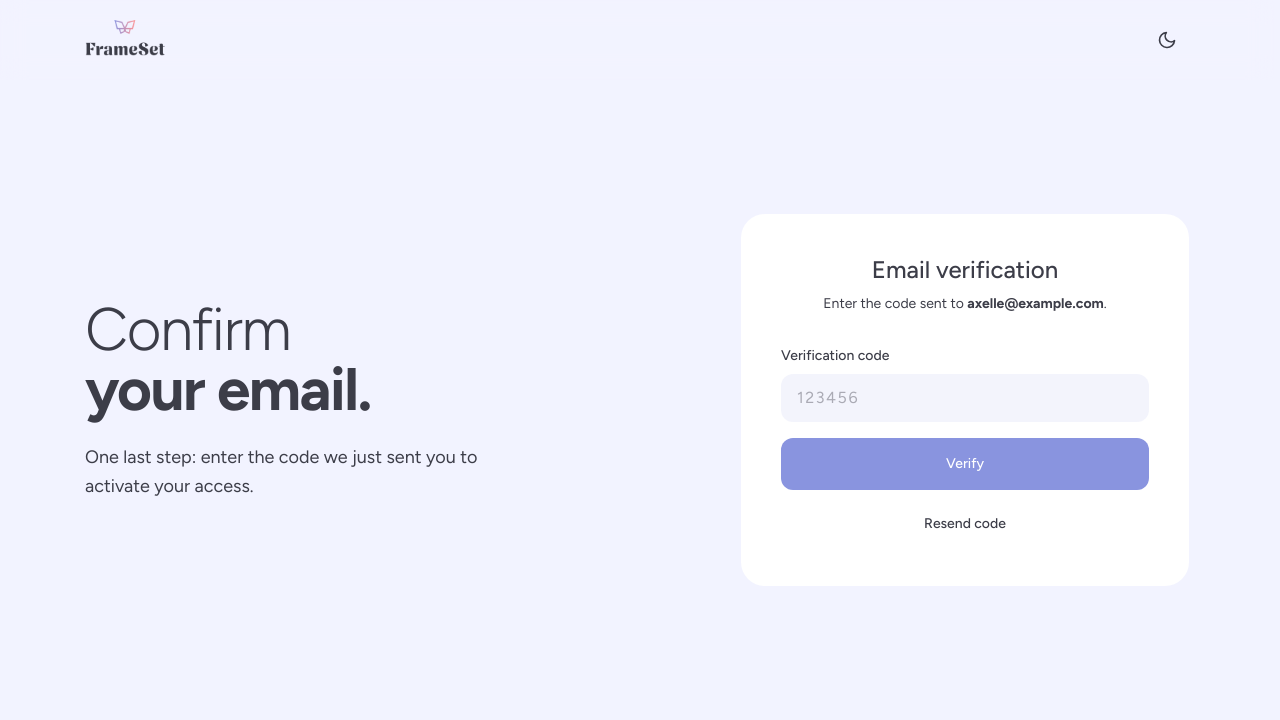
Test case: Verify › shows an error when the code is incorrect
Step 1. Type "000000" into the field with placeholder "123456" → [965, 398], box [781,374,1149,422]
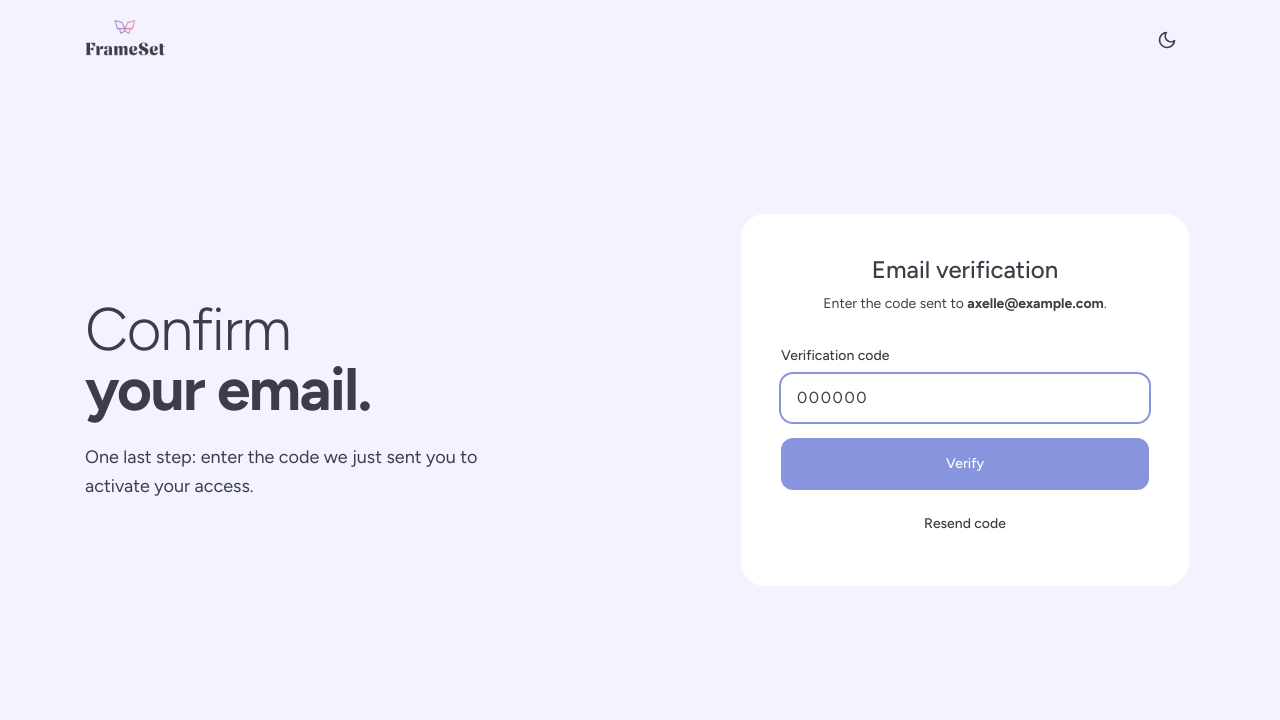
Step 2. Click the button "Verify" → [965, 464], box [781,438,1149,490]
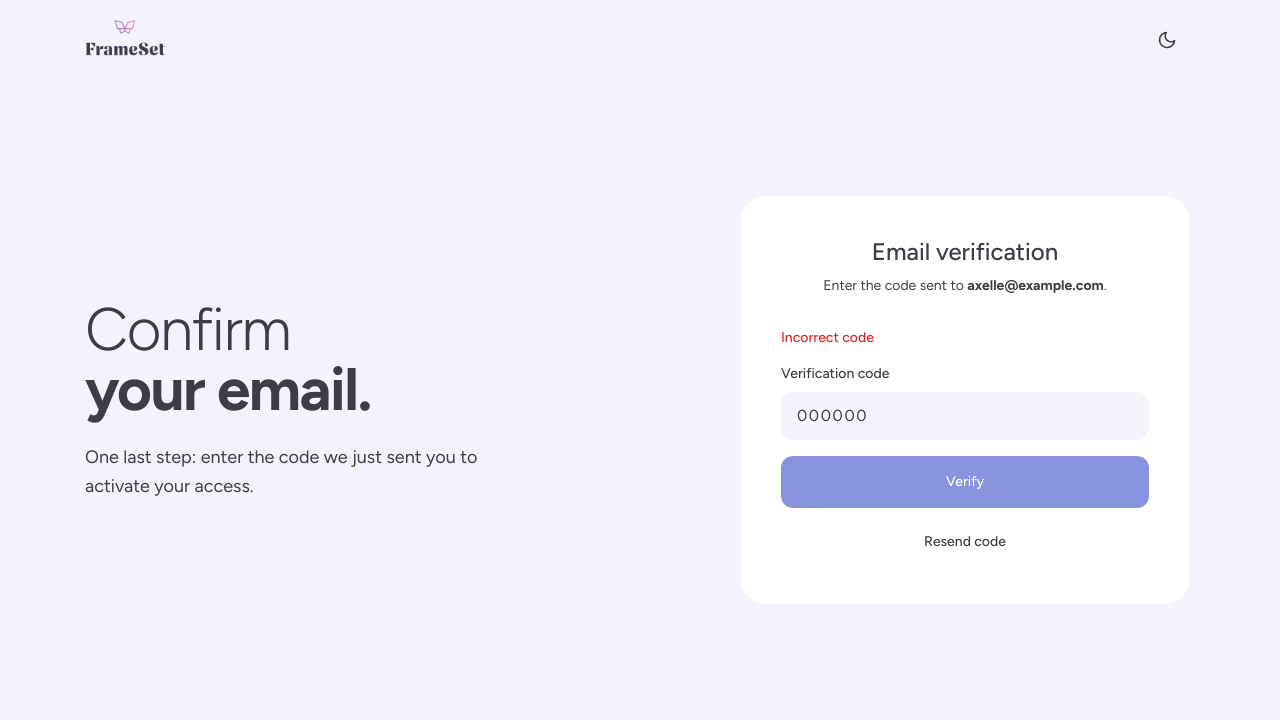
Expected: the text "Incorrect code" is shown, [781,329,874,346]
